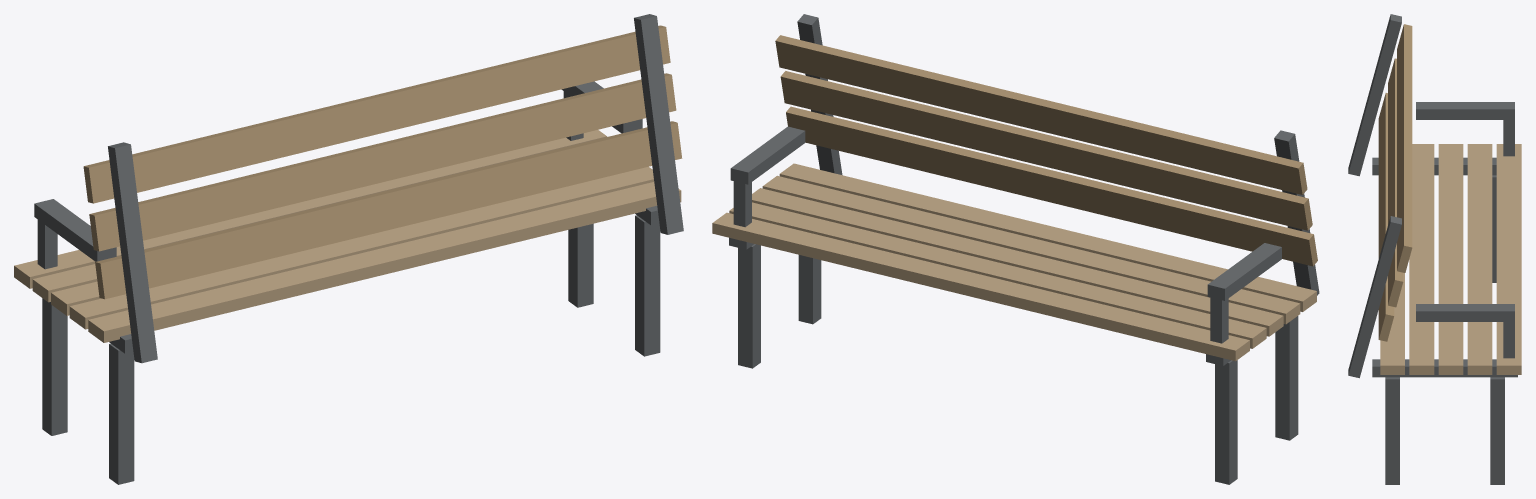
Rendered from bench_cast.glb.
3 views of the same model, side by side, from view 1: azimuth 30°, elevation 25°; view 2: azimuth 150°, elevation 25°; view 3: azimuth 270°, elevation 25° (orthographic). The views are drawn at different scales.
Bounding box in the file's own units: 1.8 × 0.9959 × 0.5945.
